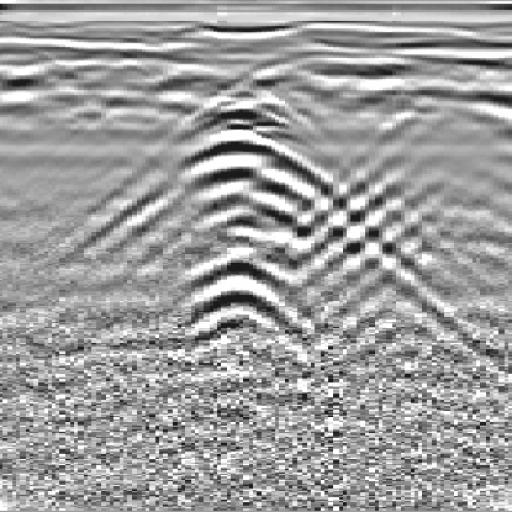metalic: (87, 60, 395, 360)
